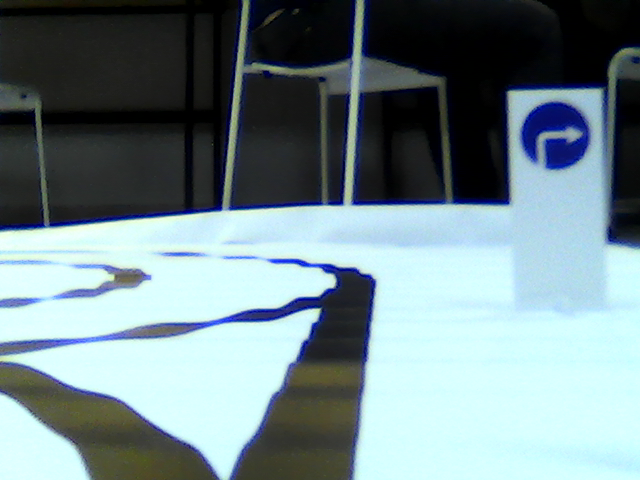Right: (524, 101, 589, 171)
